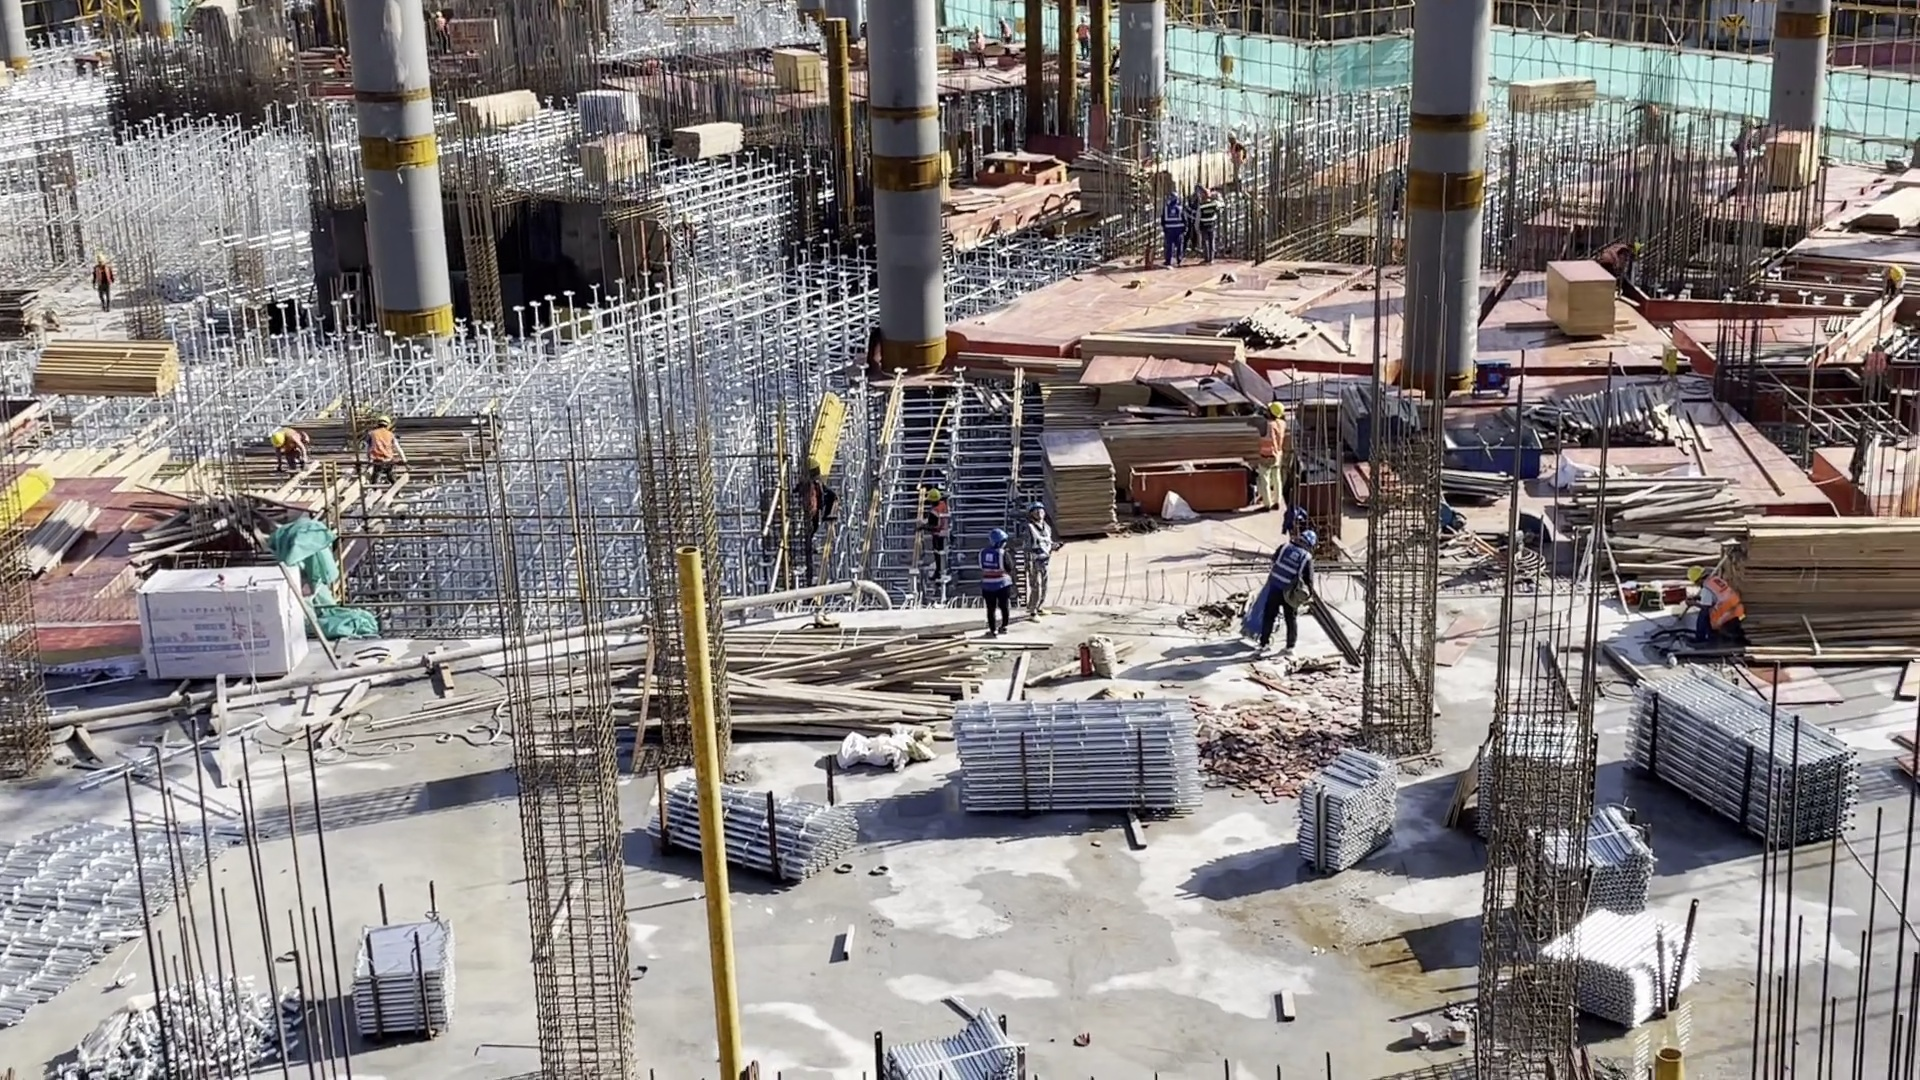board: (1033, 428, 1119, 542), (1547, 258, 1616, 342), (1077, 360, 1148, 423), (579, 133, 649, 187), (1761, 128, 1824, 187), (769, 47, 825, 95)
cutter: (1156, 367, 1253, 427), (979, 149, 1062, 190)
ebox: (1661, 344, 1679, 383)
helmet: (986, 528, 1007, 548), (1684, 564, 1703, 581), (925, 489, 944, 504), (1268, 401, 1285, 418), (1026, 501, 1045, 514), (271, 430, 284, 450), (1302, 530, 1317, 545), (377, 416, 390, 428), (1198, 188, 1211, 199), (1166, 192, 1180, 201), (1225, 131, 1237, 139)
hopper: (1440, 421, 1540, 479)
person: (1264, 528, 1314, 650), (1684, 561, 1748, 652), (1245, 400, 1287, 510), (1021, 502, 1057, 622), (975, 528, 1010, 637), (365, 414, 409, 486), (922, 487, 953, 581), (1194, 186, 1224, 265), (807, 459, 841, 527), (1860, 340, 1892, 407), (1595, 241, 1644, 286), (1162, 192, 1187, 269), (270, 428, 310, 472), (1225, 131, 1248, 197), (92, 254, 115, 313), (433, 10, 450, 55), (973, 26, 987, 72), (999, 15, 1012, 56), (333, 47, 346, 80)
scaffold: (1625, 668, 1862, 851), (948, 699, 1207, 824), (1, 813, 180, 970), (651, 781, 862, 882), (1538, 902, 1701, 1023), (1515, 802, 1652, 940), (1472, 714, 1596, 842), (867, 997, 1030, 1080), (1299, 747, 1396, 877)
vest: (1703, 578, 1743, 636), (1269, 543, 1308, 596), (1272, 546, 1305, 598), (978, 551, 1010, 597), (978, 545, 1010, 589), (1257, 421, 1285, 466), (1025, 522, 1052, 558), (929, 499, 952, 537), (369, 428, 396, 463), (1196, 199, 1218, 232), (1160, 201, 1183, 232), (1865, 352, 1885, 376), (94, 266, 112, 289), (1228, 143, 1243, 164)
wood: (717, 624, 983, 738), (1740, 504, 1920, 672), (1575, 465, 1738, 579), (1511, 387, 1708, 455), (31, 337, 181, 405), (1216, 300, 1357, 356), (1081, 327, 1248, 360), (456, 90, 548, 136), (1505, 74, 1598, 119), (1149, 150, 1234, 191), (669, 122, 744, 163)
